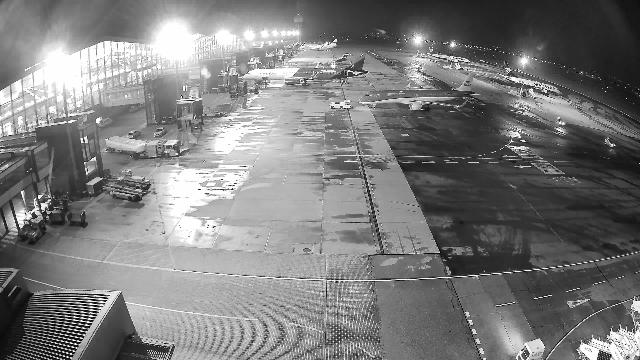Aircraft: (358, 73, 483, 110), (242, 52, 369, 86), (497, 61, 560, 94), (426, 46, 470, 63), (287, 53, 352, 64), (300, 39, 337, 49)
Airport_Tractor: (516, 338, 546, 360), (27, 218, 47, 242), (19, 216, 37, 240), (34, 194, 54, 211), (248, 86, 259, 92)
Baggage_Trolley: (86, 177, 104, 195), (67, 210, 86, 225), (52, 199, 68, 213), (48, 211, 65, 223), (31, 210, 47, 220)
Conveyor_Belt: (103, 176, 146, 201), (111, 169, 151, 190), (203, 106, 227, 118)
Fuel_Tuck: (105, 136, 180, 160)
Ground_Crew: (342, 79, 343, 84)
Pushback_Tug: (329, 100, 351, 109)
